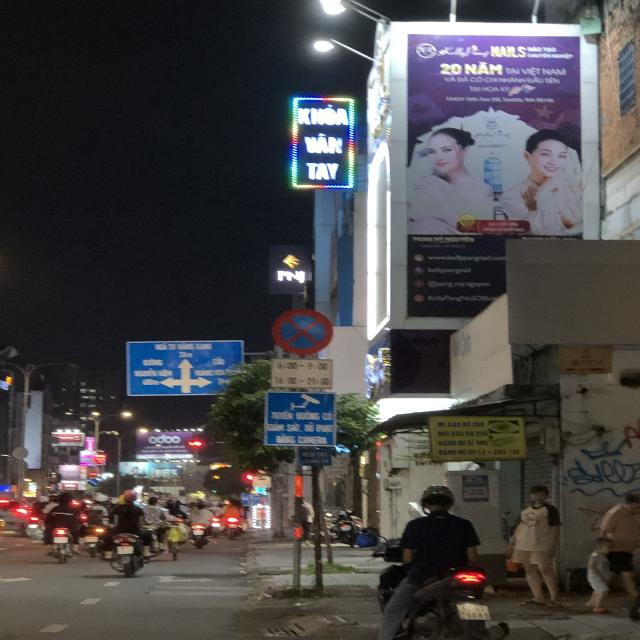Bien bao cam dung xe va do xe: (267, 306, 337, 356)
